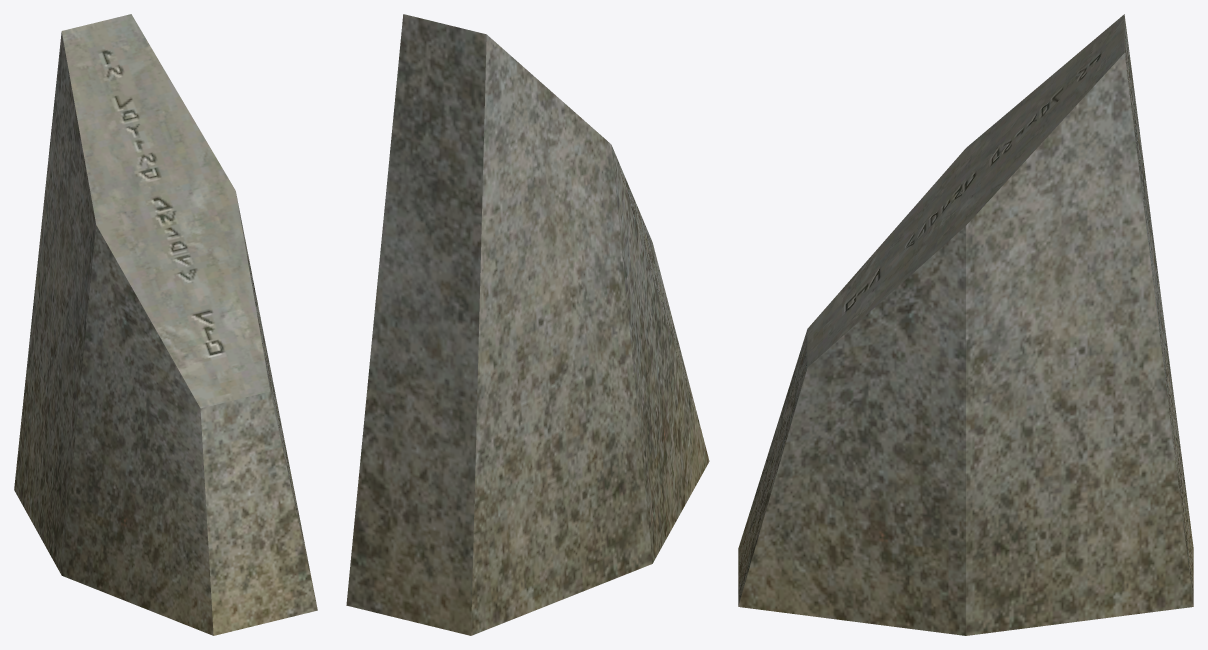
File: thm_all_gravestone_s04_l0.fbx
3 renders of one model, left to right at view 1: azimuth 30°, elevation 25°; view 2: azimuth 150°, elevation 25°; view 3: azimuth 270°, elevation 25°, orthographic. The views are drawn at different scales.
Parts seen in each view (by area): view 1: mesh_node; view 2: mesh_node; view 3: mesh_node.
Boxes of the visible parts, bbox=[...] form: mesh_node: bbox=[14, 14, 317, 635]; mesh_node: bbox=[346, 14, 709, 635]; mesh_node: bbox=[738, 14, 1193, 635].
Size of the model in its own units: 0.4113 by 0.8989 by 0.6816.
